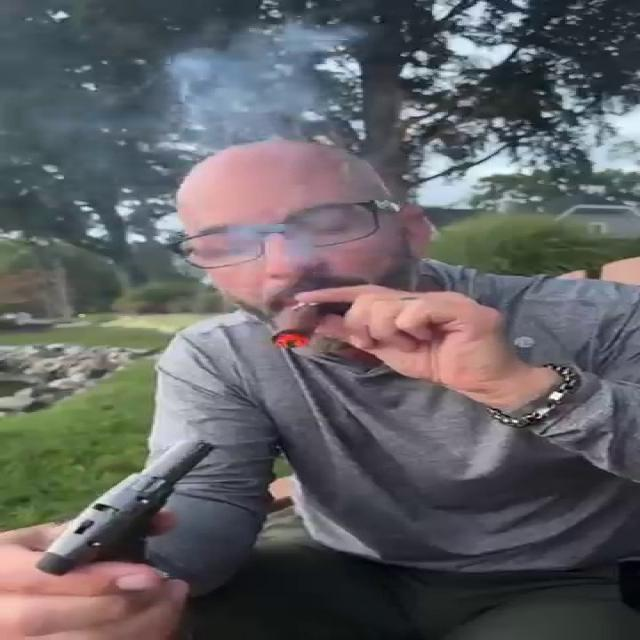Cigarette: (268, 304, 328, 349)
Hand: (290, 280, 519, 394)
Mouth: (266, 280, 370, 312)
